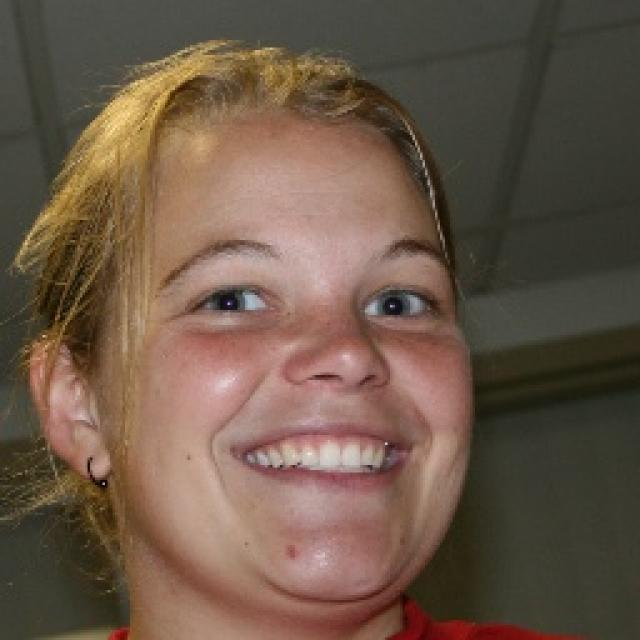earlobe: (28, 335, 117, 482)
